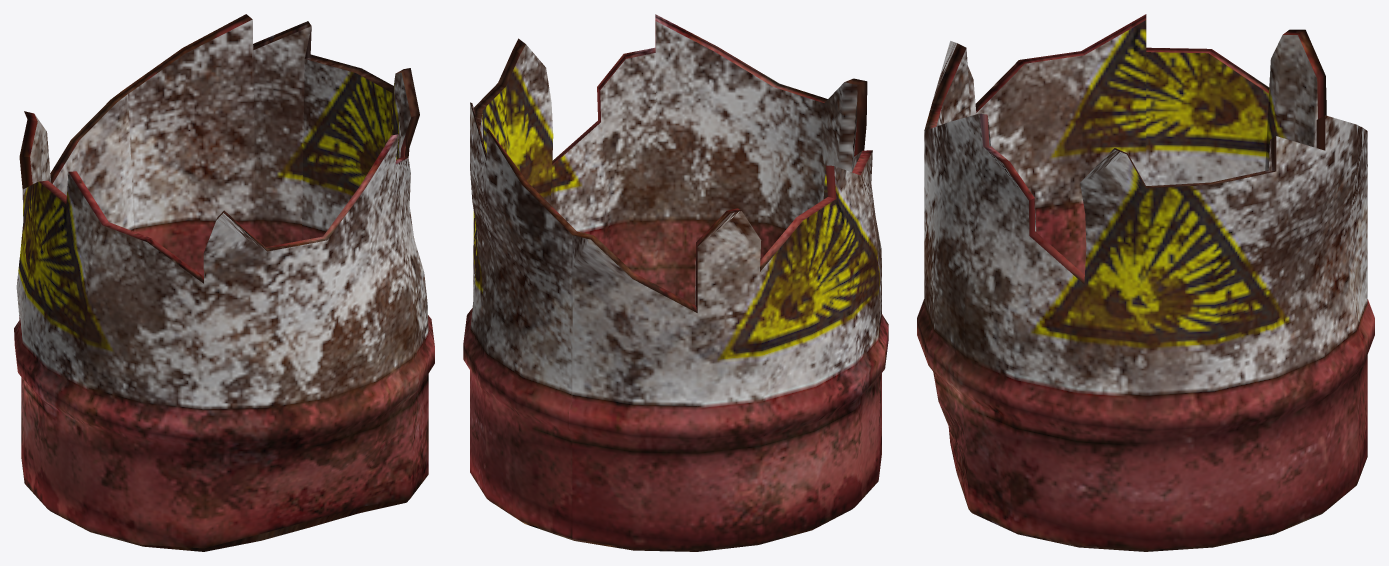
The model's file is RedBarrelDestroyed.fbx.
The picture shows the model from 3 angles, left to right: view 1: azimuth 30°, elevation 25°; view 2: azimuth 150°, elevation 25°; view 3: azimuth 270°, elevation 25°; orthographic projection. The views are drawn at different scales.
Parts seen in each view (by area): view 1: pCylinder1; view 2: pCylinder1; view 3: pCylinder1.
Part boxes in pixels (x1,y1,x2,y2): pCylinder1: (14, 14, 434, 551); pCylinder1: (463, 14, 888, 551); pCylinder1: (917, 14, 1374, 551).
Size of the model in its own units: 59.46 by 57.52 by 59.46.
Materials: 1 (1 with a texture image).
